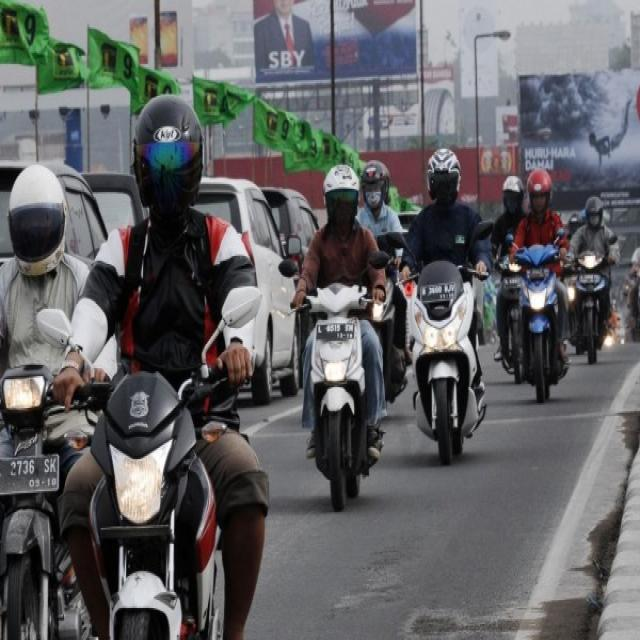Helmet: (133, 95, 202, 218), (8, 164, 66, 275), (323, 165, 359, 223), (426, 148, 461, 205), (361, 160, 389, 208), (527, 168, 552, 207), (502, 175, 523, 216), (585, 196, 603, 228), (567, 213, 582, 235)
Number Plate: (0, 454, 59, 495), (420, 283, 457, 304), (316, 323, 355, 341), (578, 273, 600, 284), (528, 268, 546, 279), (502, 277, 520, 287)
Rearview Mirror: (221, 286, 261, 327), (36, 308, 71, 347), (469, 221, 492, 245), (278, 258, 298, 277), (368, 251, 389, 268), (385, 231, 406, 248), (286, 235, 301, 256), (504, 233, 514, 247), (556, 227, 566, 238), (608, 233, 617, 244)
